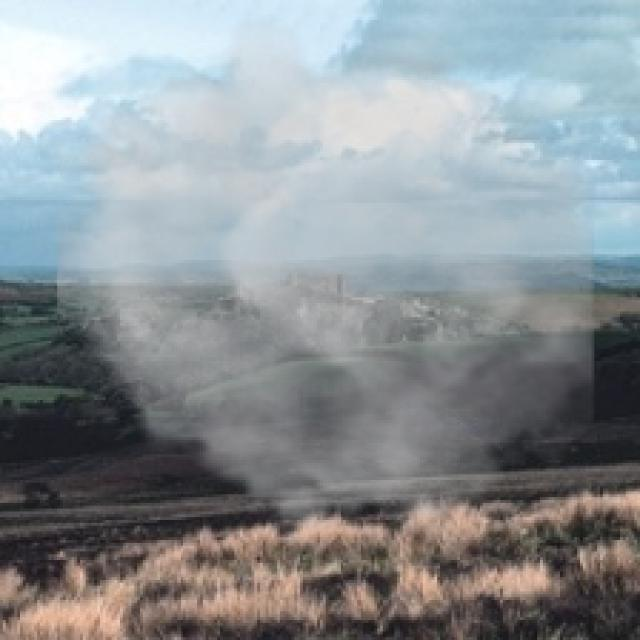Smoke: (57, 14, 594, 554)
